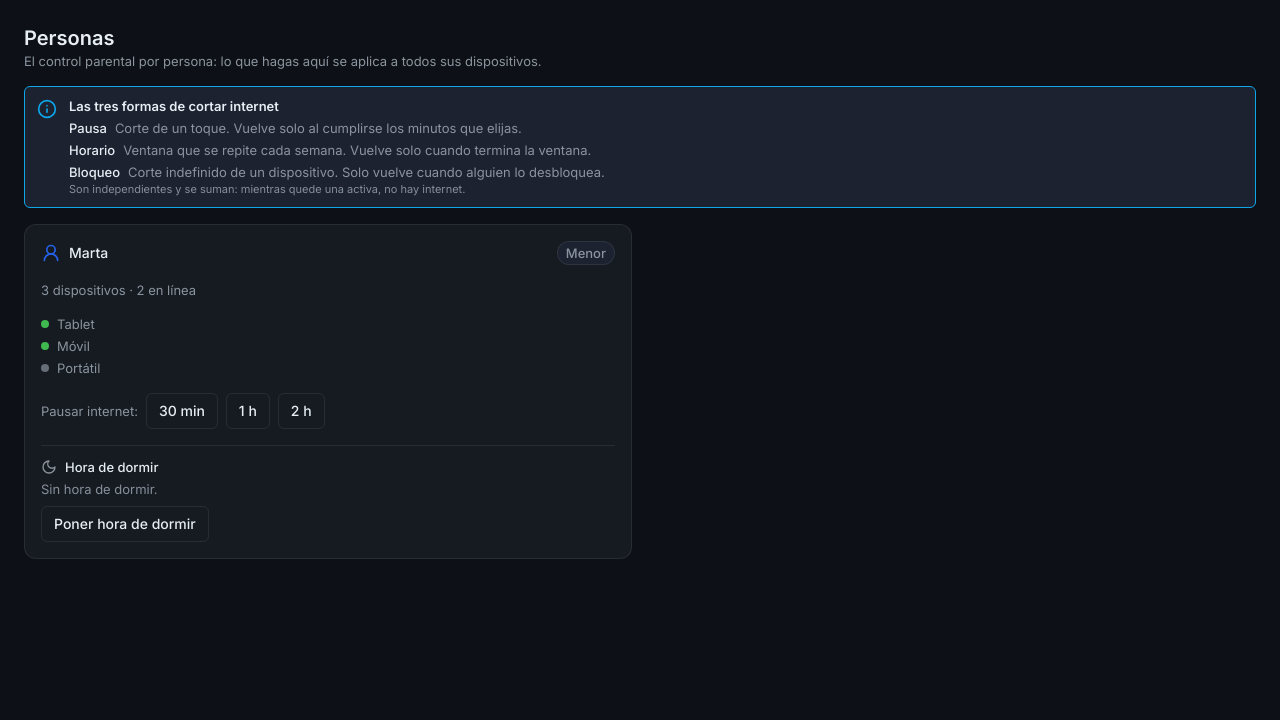
it: PeoplePage (US-240) › pausa a la persona entera con un toque
Expected: the heading "Marta" is shown, left=69, top=244, right=108, bottom=261
Click the button with aria-label "Pausar el internet de Marta 30" at (182, 411), box left=146, top=393, right=218, bottom=429
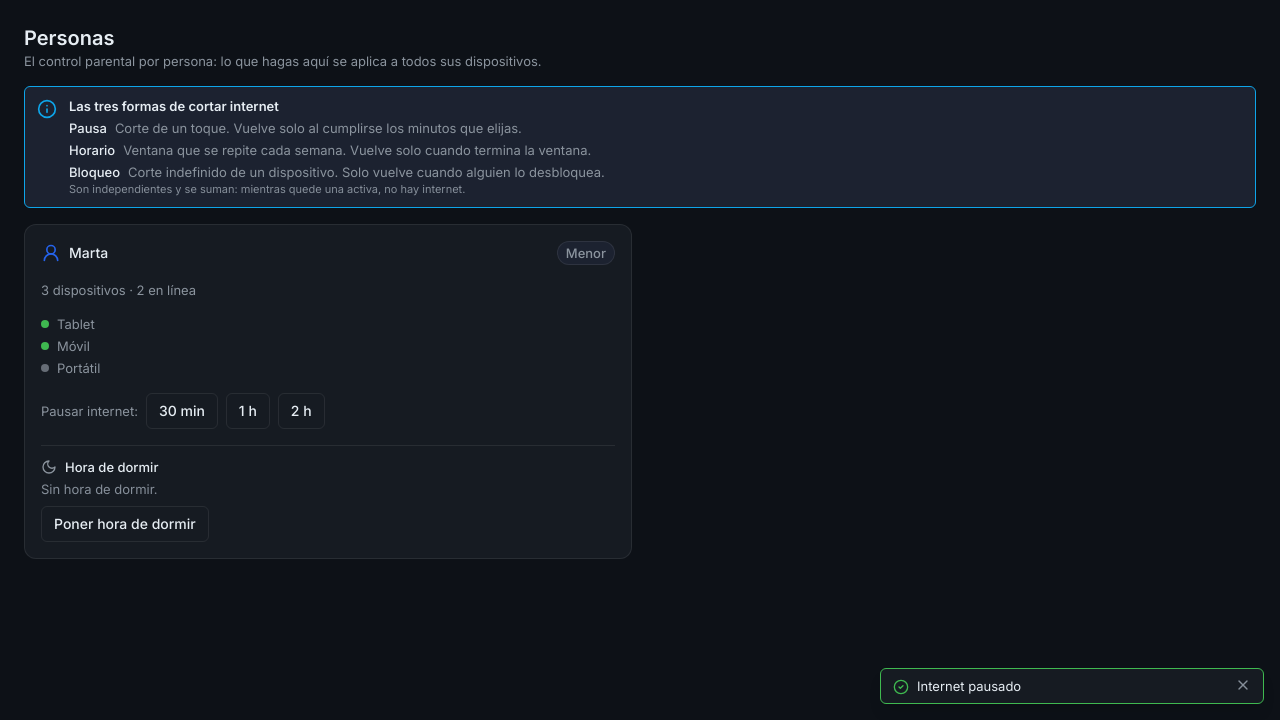
Expected: the text "Internet pausado" is shown, left=917, top=678, right=1021, bottom=694
